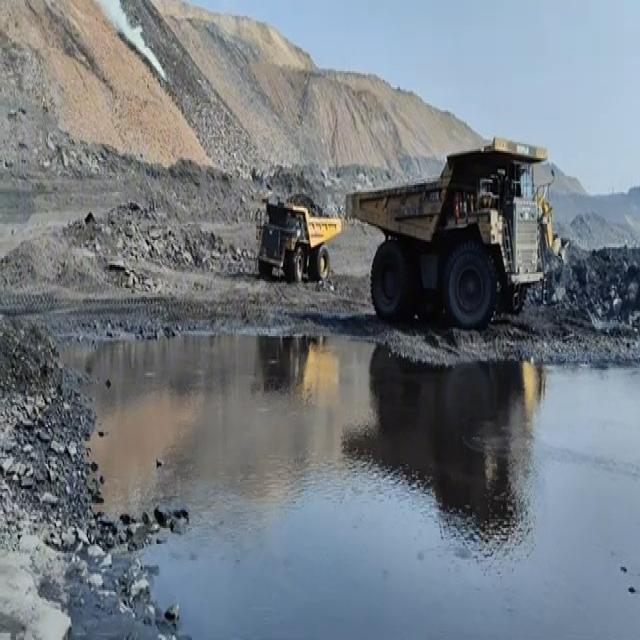dump_truck: (341, 136, 539, 342), (258, 188, 342, 291)
